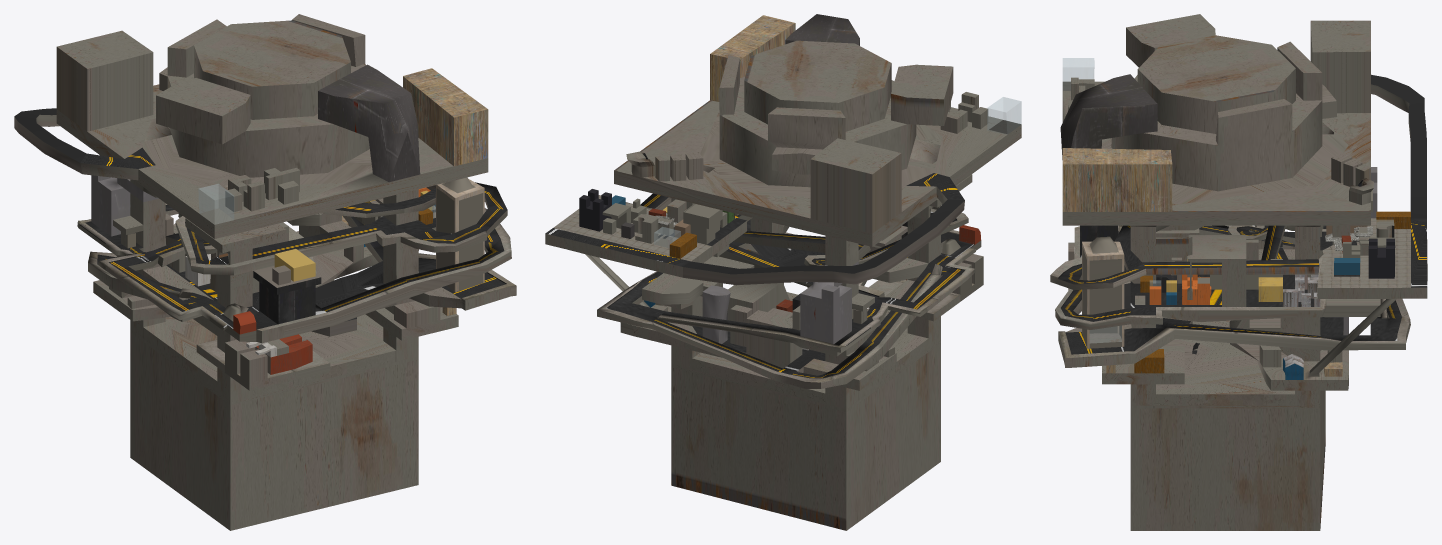
Rendered from sproutstylecity3.gltf.
3 views of the same model, side by side, from view 1: azimuth 30°, elevation 25°; view 2: azimuth 150°, elevation 25°; view 3: azimuth 270°, elevation 25° (orthographic). The views are drawn at different scales.
Visible parts, largest first — view 1: citybase; view 2: citybase; view 3: citybase.
Part boxes in pixels (x1,y1,x2,y2): citybase: (14,14,516,530); citybase: (545,14,1021,530); citybase: (1050,14,1427,530).
Bounding box in the file's own units: 88.6 × 100 × 82.8.
